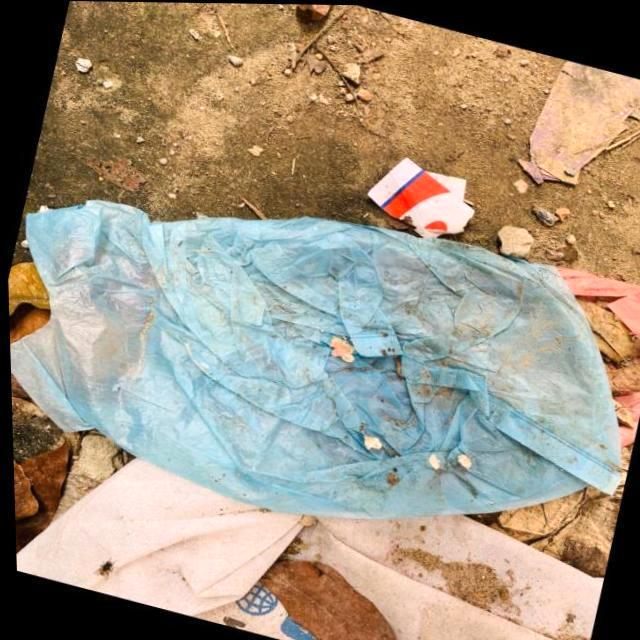polythene: (26, 219, 612, 516)
